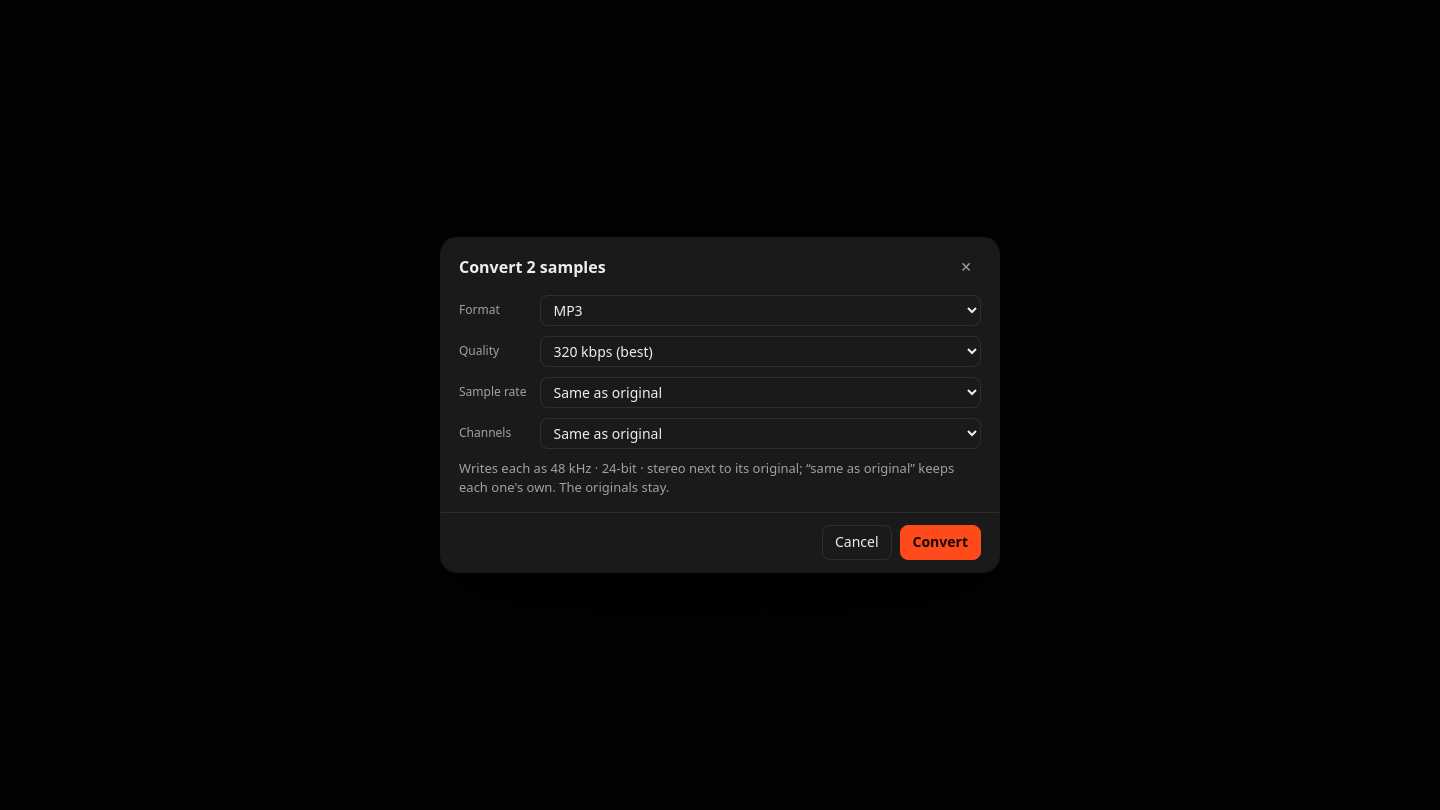
Scenario: ConvertDialog › says which didn't convert, and goes on with the rest
Click the button "Convert". click: (940, 542)
box: 900,525 -> 981,560
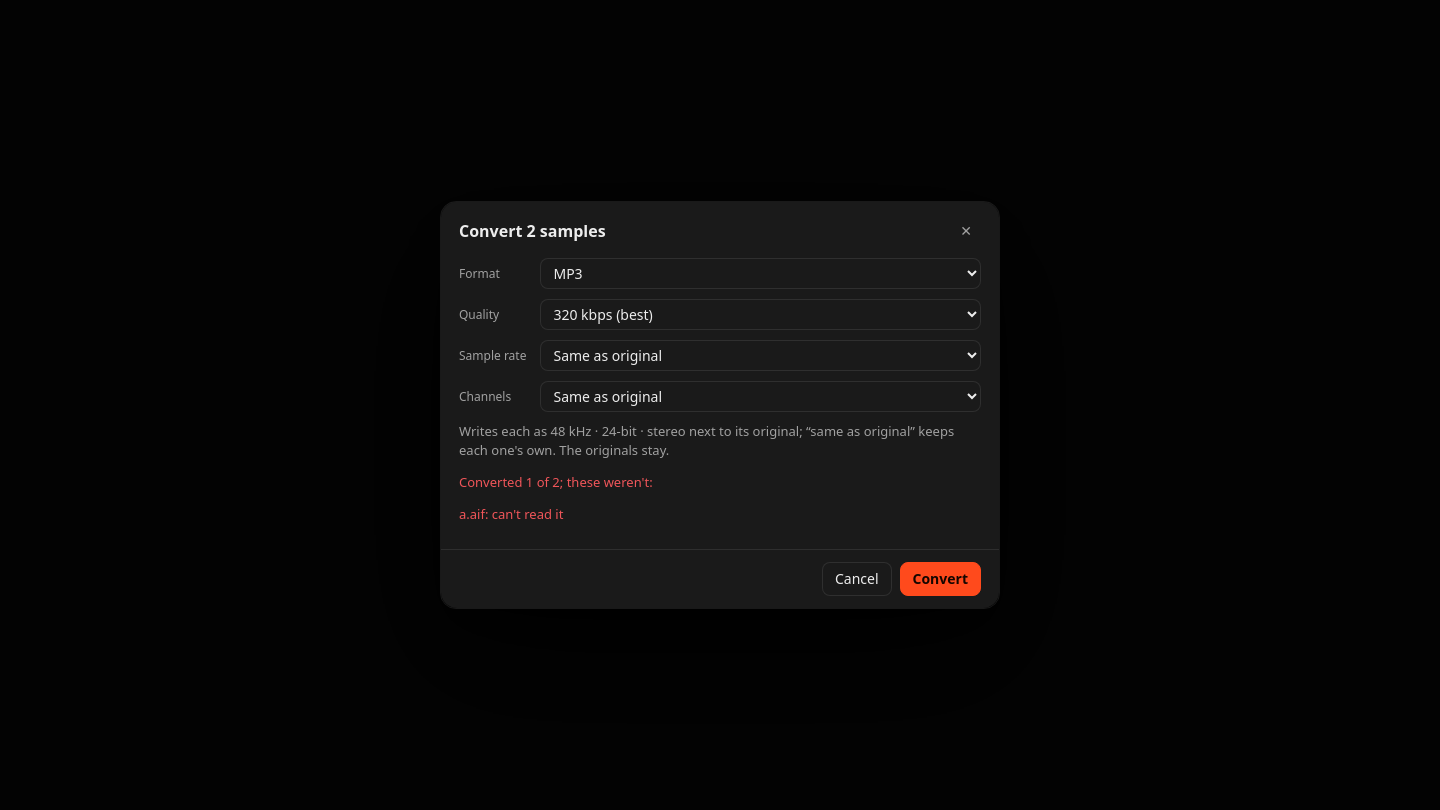
Expected: the text "a.aif: can't read it" is shown, 459,505 -> 563,523
Expected: the text "Converted 1 of 2; these weren't:" is shown, 459,473 -> 653,491
